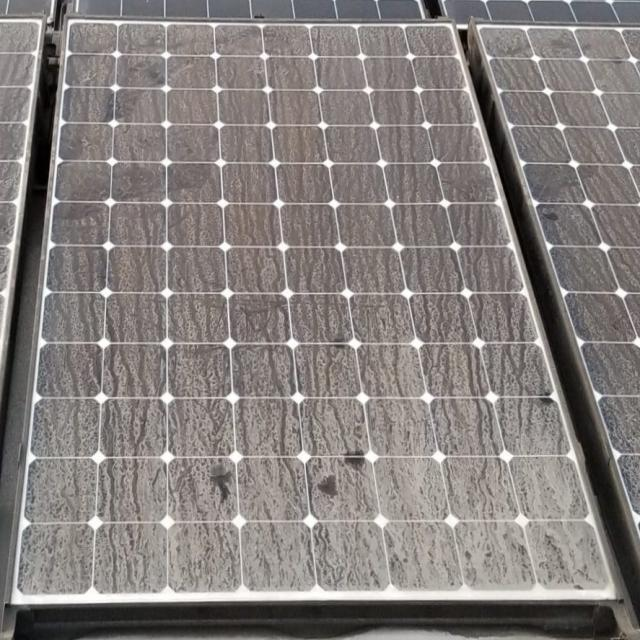dust-solar-panel: (12, 15, 640, 605)
